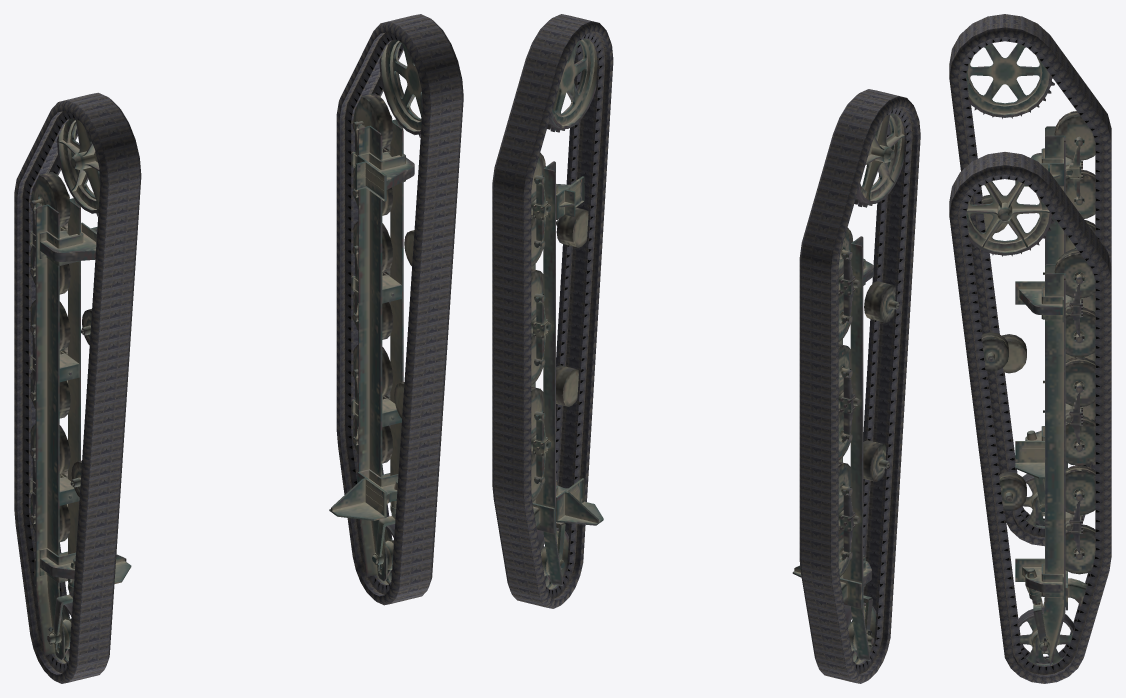
File: Chassis.glb
The picture shows the model from 3 angles, left to right: view 1: azimuth 30°, elevation 25°; view 2: azimuth 150°, elevation 25°; view 3: azimuth 270°, elevation 25°; orthographic projection. The views are drawn at different scales.
Parts seen in each view (by area): view 1: set_1_group_0, set_0_group_0, set_2_group_0, set_3_group_0; view 2: set_1_group_0, set_0_group_0, set_3_group_0, set_2_group_0; view 3: set_3_group_0, set_0_group_0, set_1_group_0, set_2_group_0.
Boxes of the visible parts, <box> form: set_1_group_0: <box>14,92,141,683</box>; set_0_group_0: <box>336,14,463,605</box>; set_2_group_0: <box>29,118,131,663</box>; set_3_group_0: <box>329,40,422,584</box>; set_1_group_0: <box>799,89,920,683</box>; set_0_group_0: <box>492,14,613,608</box>; set_3_group_0: <box>531,38,603,589</box>; set_2_group_0: <box>792,113,904,664</box>; set_3_group_0: <box>966,181,1095,665</box>; set_0_group_0: <box>949,152,1111,683</box>; set_1_group_0: <box>949,14,1111,546</box>; set_2_group_0: <box>966,43,1095,528</box>.
Size of the model in its own units: 1.77 by 2.73 by 0.7754.
4 materials, 4 textured.
